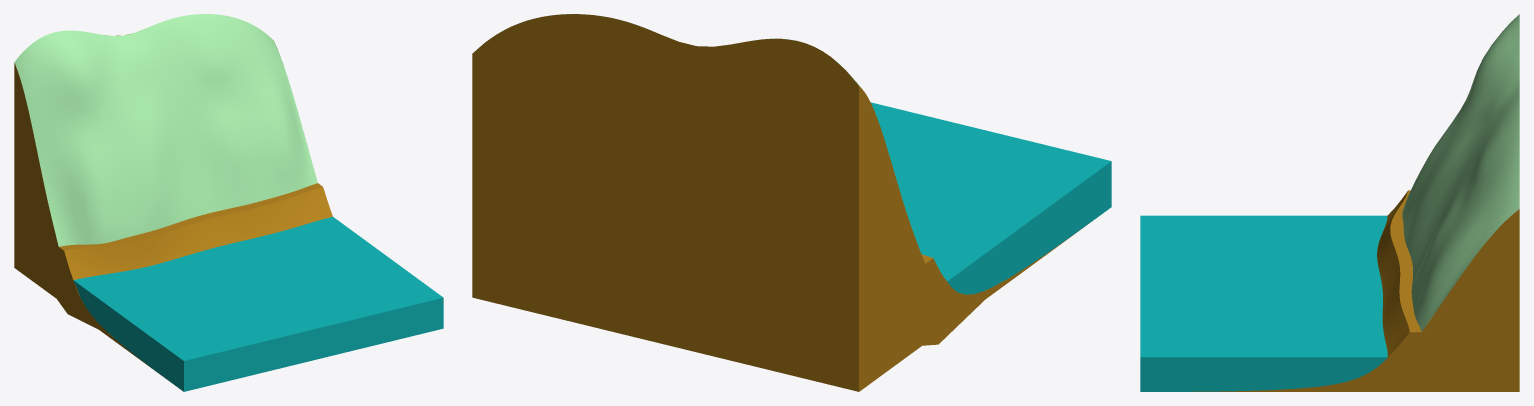
File: fault.fbx
The picture shows the model from 3 angles, left to right: view 1: azimuth 30°, elevation 25°; view 2: azimuth 150°, elevation 25°; view 3: azimuth 270°, elevation 25°; orthographic projection. The views are drawn at different scales.
Visible parts, largest first — view 1: 物件_7, 物件_2, 物件_3, 物件_1; view 2: 物件_5, 物件_3, 物件_2, 物件_1; view 3: 物件_2, 物件_7, 物件_3, 物件_4.
Part boxes in pixels (x1,y1,x2,y2): 物件_7: (14, 14, 317, 246); 物件_2: (73, 216, 443, 391); 物件_3: (14, 183, 332, 375); 物件_1: (14, 63, 58, 246); 物件_5: (472, 14, 858, 312); 物件_3: (472, 218, 1087, 391); 物件_2: (871, 102, 1111, 294); 物件_1: (859, 86, 924, 311); 物件_2: (1140, 215, 1387, 391); 物件_7: (1402, 14, 1519, 331); 物件_3: (1192, 190, 1519, 391); 物件_4: (1422, 209, 1519, 332).
Bounding box in the file's own units: 120 × 135 × 103.
